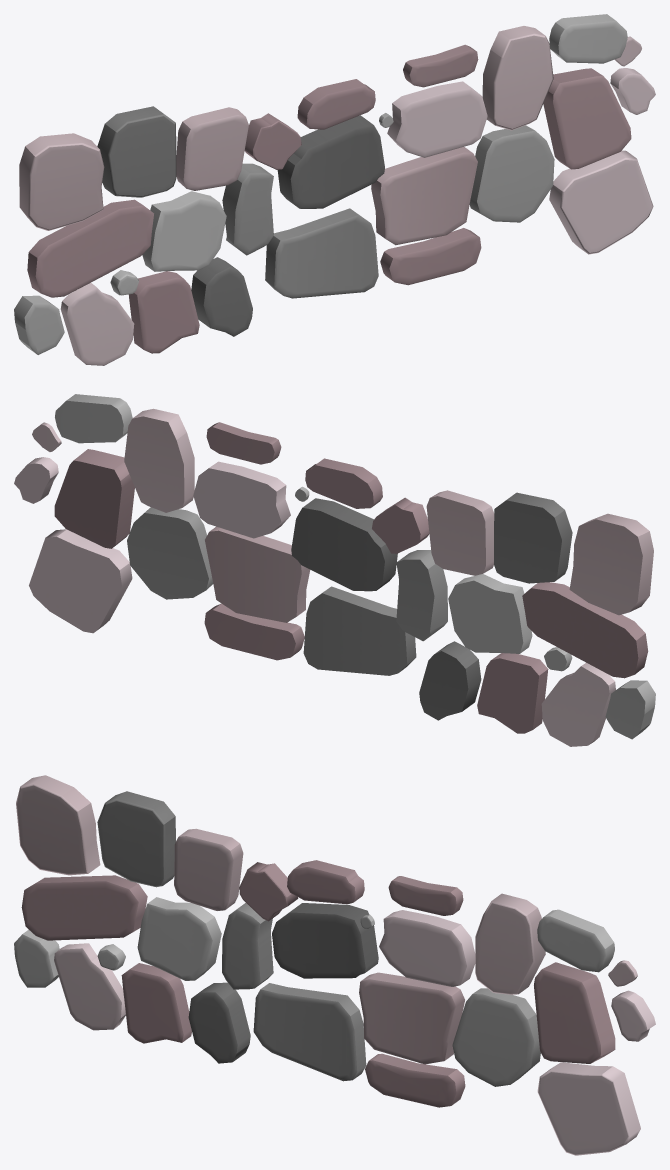
The model's file is SRWallStones.fbx.
The picture shows the model from 3 angles, top to bottom: view 1: azimuth 30°, elevation 25°; view 2: azimuth 150°, elevation 25°; view 3: azimuth 330°, elevation 25°; orthographic projection.
Visible parts, largest first — view 1: WallStones; view 2: WallStones; view 3: WallStones.
Part boxes in pixels (x1=…): WallStones: x1=14, y1=14, x2=655, y2=365; WallStones: x1=14, y1=394, x2=655, y2=746; WallStones: x1=14, y1=775, x2=655, y2=1155.
Size of the model in its own units: 2.47 by 0.9009 by 0.1429.
